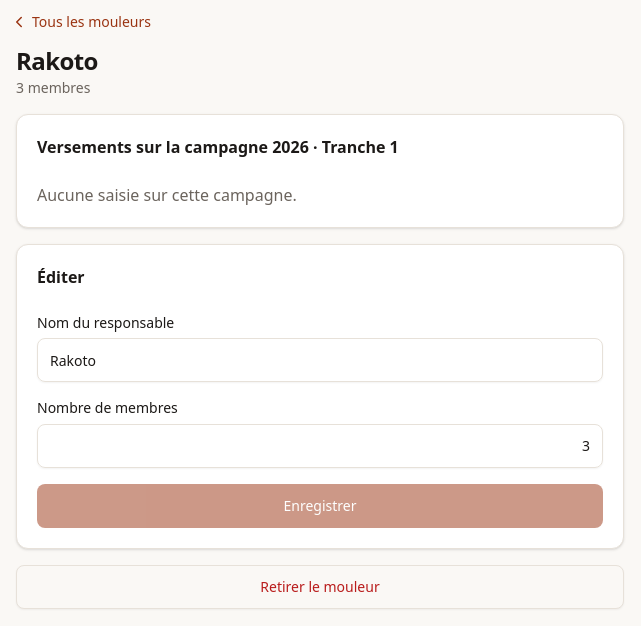
Test case: MoulderPage › edits the name and the member count
Expected: the button "Enregistrer" is disabled, [37,484,603,528]
Replace the text in the field labelled "Nom du responsable" with "Rakotobe": (320, 360) [37,338,603,382]
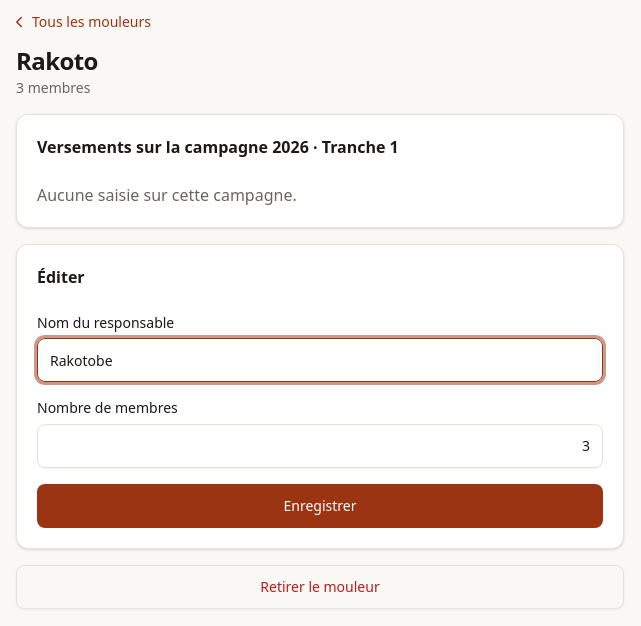
Click the button "Enregistrer": (320, 506) [37,484,603,528]
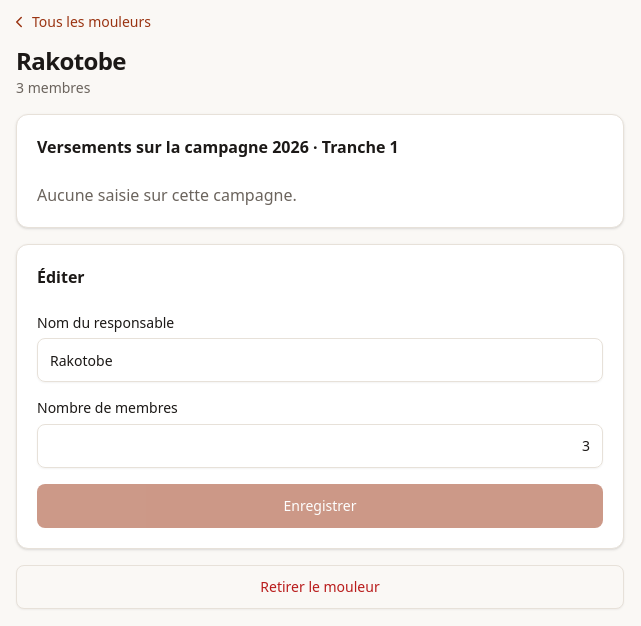
Expected: the heading "Rakotobe" is shown, [16,46,126,76]
